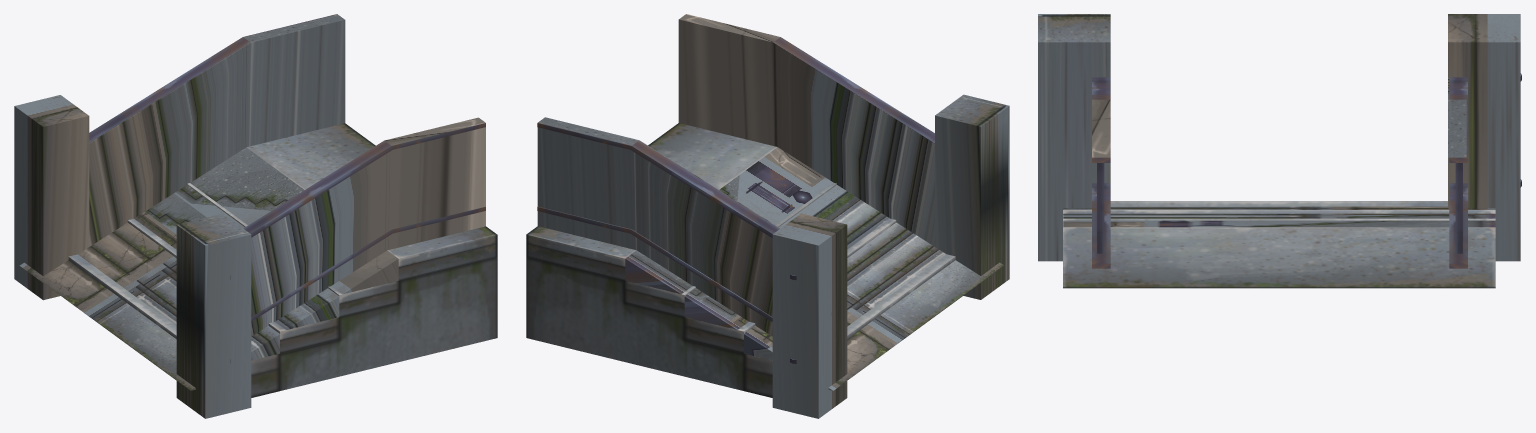
Rendered from stairs02_D.FBX.
The picture shows the model from 3 angles, left to right: view 1: azimuth 30°, elevation 25°; view 2: azimuth 150°, elevation 25°; view 3: azimuth 270°, elevation 25°; orthographic projection. The views are drawn at different scales.
Parts seen in each view (by area): view 1: stairs02_D_COL, stairs02_D; view 2: stairs02_D_COL, stairs02_D; view 3: stairs02_D_COL, stairs02_D.
Part boxes in pixels (x1,y1,x2,y2): stairs02_D_COL: (14,14,485,418); stairs02_D: (68,14,497,397); stairs02_D_COL: (537,14,1009,418); stairs02_D: (526,37,955,397); stairs02_D_COL: (1038,14,1520,261); stairs02_D: (1063,73,1521,288).
Bounding box in the file's own units: 311 × 200 × 336.
